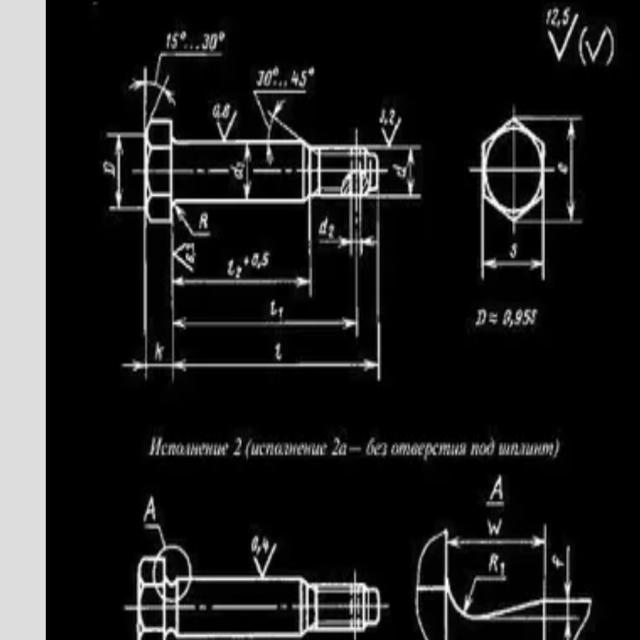marking_line: (123, 224, 391, 384), (166, 224, 362, 344), (167, 225, 314, 299), (123, 225, 151, 383), (544, 116, 581, 228), (479, 223, 547, 279), (104, 128, 143, 216), (250, 87, 307, 139), (127, 65, 175, 118), (381, 142, 423, 201), (448, 527, 547, 550), (465, 576, 507, 609), (319, 236, 378, 255), (175, 208, 210, 239), (215, 110, 237, 139), (561, 542, 571, 596), (144, 523, 166, 547), (565, 621, 572, 640)
numeric: (242, 144, 253, 200), (489, 475, 504, 502), (143, 497, 158, 523), (487, 520, 505, 537), (232, 436, 243, 459), (272, 342, 283, 362), (154, 342, 165, 361), (550, 555, 563, 571), (218, 101, 230, 118), (103, 161, 115, 178), (393, 163, 406, 178), (330, 437, 340, 456), (208, 32, 217, 53), (488, 554, 499, 571), (183, 251, 197, 264), (298, 70, 308, 88), (198, 213, 210, 228), (231, 165, 242, 181), (227, 258, 236, 277), (257, 68, 265, 88), (251, 534, 259, 554), (503, 309, 512, 326), (513, 309, 522, 326), (380, 106, 388, 125), (171, 33, 180, 49), (522, 309, 530, 327), (264, 70, 272, 87), (212, 103, 221, 118), (557, 162, 569, 173), (291, 71, 299, 87), (262, 251, 270, 267), (270, 298, 276, 318), (509, 243, 516, 260), (203, 32, 209, 51), (251, 253, 259, 267), (262, 538, 269, 553), (186, 243, 196, 253), (236, 265, 242, 281), (389, 109, 395, 125), (531, 309, 537, 325), (278, 305, 285, 318), (166, 32, 171, 49), (500, 561, 505, 577)
special_symbol: (544, 13, 579, 61), (253, 545, 276, 577), (584, 29, 606, 62), (382, 115, 401, 146), (273, 64, 279, 77), (308, 66, 315, 75), (180, 29, 185, 41), (220, 31, 224, 44)
